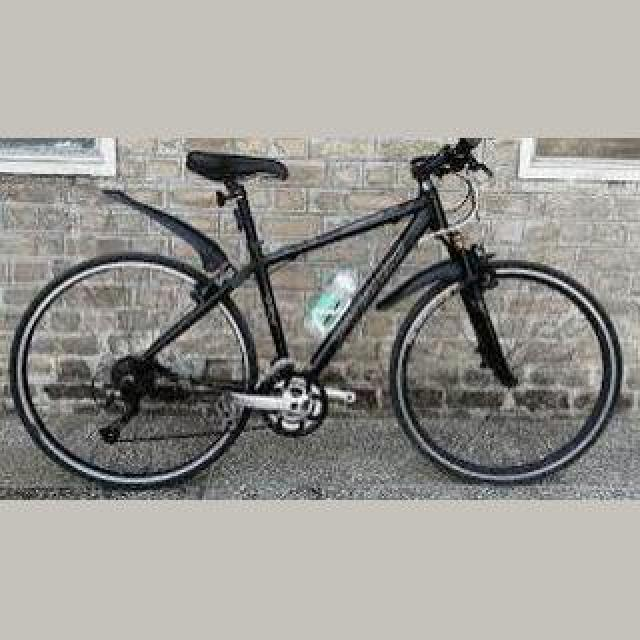Person: (9, 138, 623, 492)
